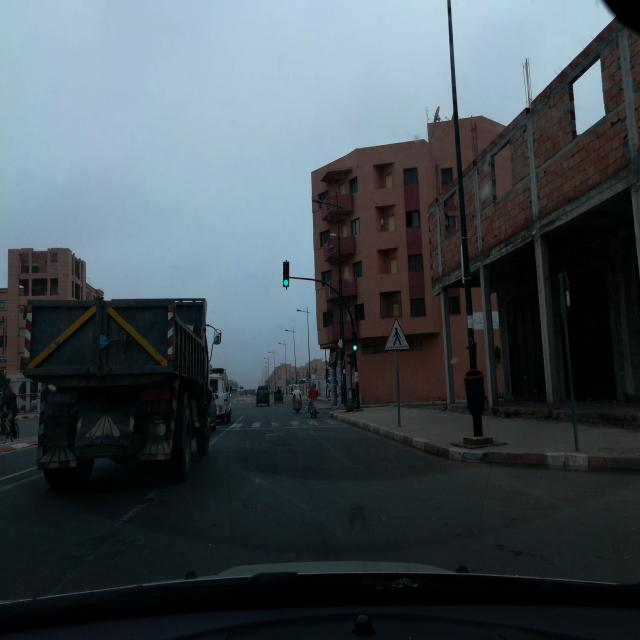bike: (0, 406, 20, 443), (308, 396, 318, 418), (292, 396, 303, 414)
car: (255, 384, 271, 407), (273, 388, 284, 404)
